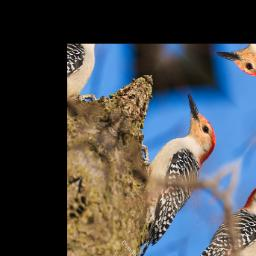Woodpecker: (98, 90, 233, 256)
